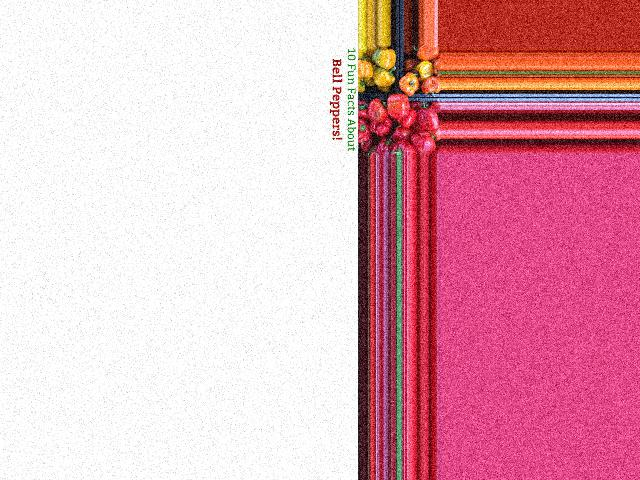bell_pepper: (354, 113, 374, 143)
